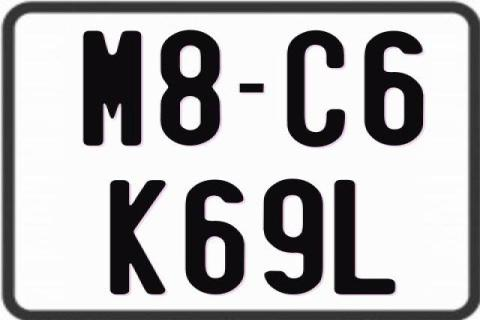0: (159, 28, 224, 149), (260, 176, 324, 294), (183, 178, 245, 296), (363, 30, 422, 146)
C: (286, 30, 350, 150)
K: (107, 180, 164, 298)
L: (331, 180, 393, 296)
M: (82, 29, 143, 148)
